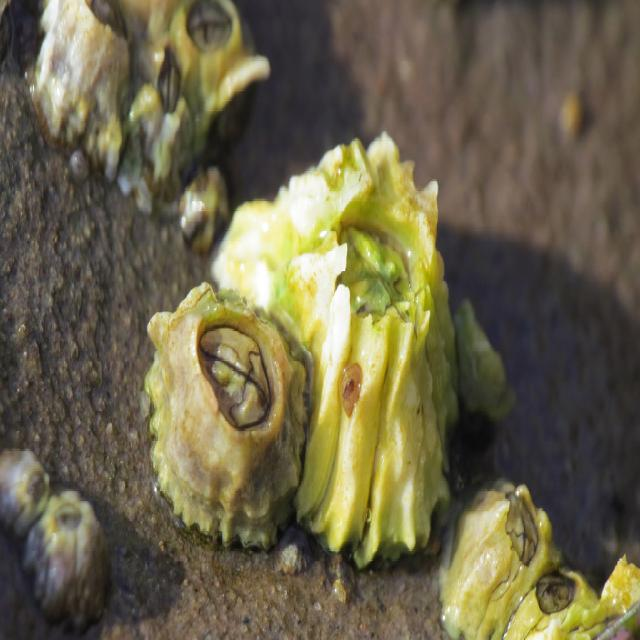barnacles: (283, 118, 465, 561), (142, 286, 304, 564), (457, 460, 544, 628), (178, 0, 265, 134), (46, 488, 118, 623), (4, 425, 48, 537)
